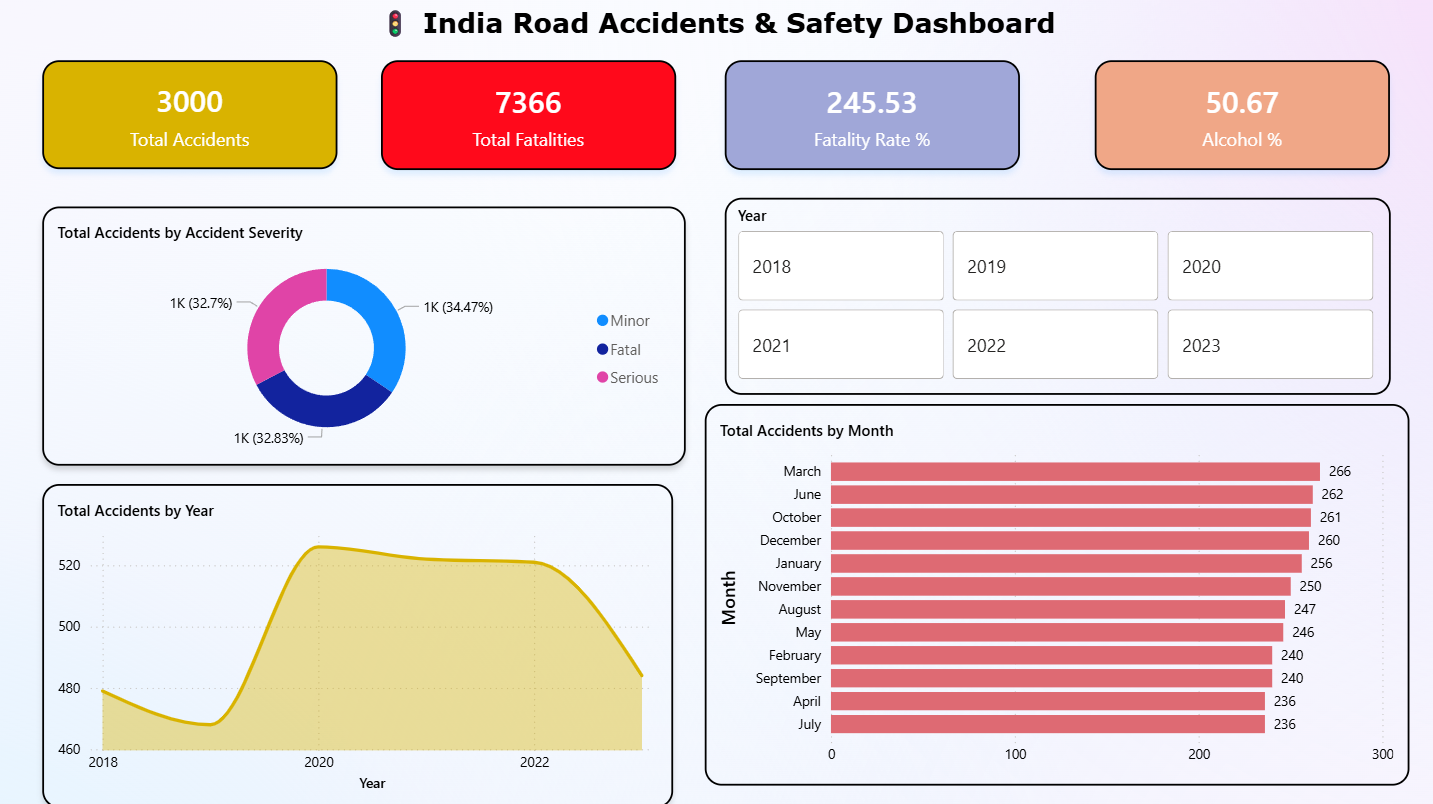

The page's visual inventory and layout, read from the dashboard file:
{"tool":"powerbi","page":{"name":"Overview","canvas":[1280,720],"ordinal":0},"visuals":[{"type":"card","fields":{"Values":["accident_prediction_india.Total Accidents"]},"box":[40.7,54.7,262.8,96.5],"z":0},{"type":"card","fields":{"Values":["accident_prediction_india.Total Fatalities"]},"box":[341.9,54.7,262.8,97.7],"z":1000},{"type":"card","fields":{"Values":["accident_prediction_india.Fatality Rate %"]},"box":[647.7,54.7,262.8,97.7],"z":2000},{"type":"card","fields":{"Values":["accident_prediction_india.Alcohol %"]},"box":[976.7,54.7,262.8,97.7],"z":3000},{"type":"areaChart","fields":{"Category":["accident_prediction_india.Year"],"Y":["accident_prediction_india.Total Accidents"]},"box":[40.7,431.4,560.5,288.4],"z":4000},{"type":"barChart","fields":{"Category":["accident_prediction_india.Month"],"Y":["accident_prediction_india.Total Accidents"]},"box":[630.2,360.5,626.7,339.5],"z":5000},{"type":"donutChart","fields":{"Category":["accident_prediction_india.Accident Severity"],"Y":["accident_prediction_india.Total Accidents"]},"box":[40.7,184.9,572.1,230.2],"z":6000},{"type":"advancedSlicerVisual","fields":{"Values":["accident_prediction_india.Year"]},"box":[647.7,176.7,591.9,175.6],"z":7000},{"type":"textbox","box":[0,0,1280.2,54.7],"z":8000}]}

Visuals, with their boxes in screenshot pixels (x1, y1, x2, y2), scaled from the page's 1280x720 canvas onto the 1433x804 screenshot:
card - accident_prediction_india.Total Accidents: 46,61,340,169
card - accident_prediction_india.Total Fatalities: 383,61,677,170
card - accident_prediction_india.Fatality Rate %: 725,61,1019,170
card - accident_prediction_india.Alcohol %: 1093,61,1388,170
areaChart - accident_prediction_india.Year x accident_prediction_india.Total Accidents: 46,482,673,803
barChart - accident_prediction_india.Month x accident_prediction_india.Total Accidents: 706,403,1407,782
donutChart - accident_prediction_india.Accident Severity x accident_prediction_india.Total Accidents: 46,206,686,464
advancedSlicerVisual - accident_prediction_india.Year: 725,197,1388,393
textbox: 0,0,1432,61
